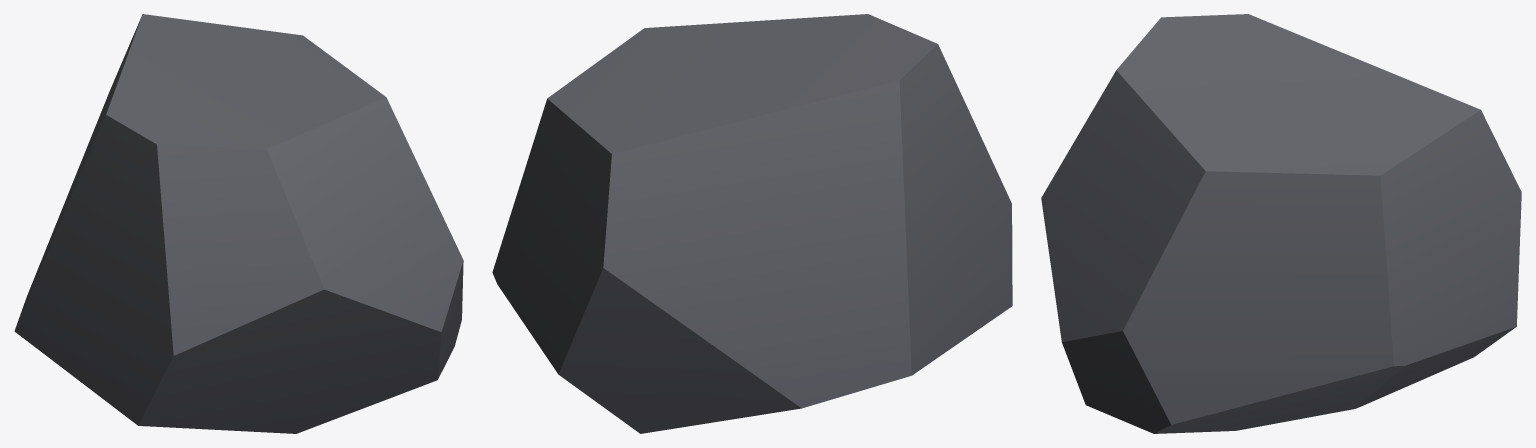
File: SmallRock_05.fbx
The picture shows the model from 3 angles, left to right: view 1: azimuth 30°, elevation 25°; view 2: azimuth 150°, elevation 25°; view 3: azimuth 270°, elevation 25°; orthographic projection. The views are drawn at different scales.
Parts seen in each view (by area): view 1: SmallRock_05_LOD0; view 2: SmallRock_05_LOD0; view 3: SmallRock_05_LOD0.
Part boxes in pixels (x1,y1,x2,y2): SmallRock_05_LOD0: [14, 14, 463, 433]; SmallRock_05_LOD0: [492, 14, 1012, 433]; SmallRock_05_LOD0: [1041, 14, 1521, 433].
Size of what is drawn, in the model's own units: 0.3519 by 0.2773 by 0.3952.
